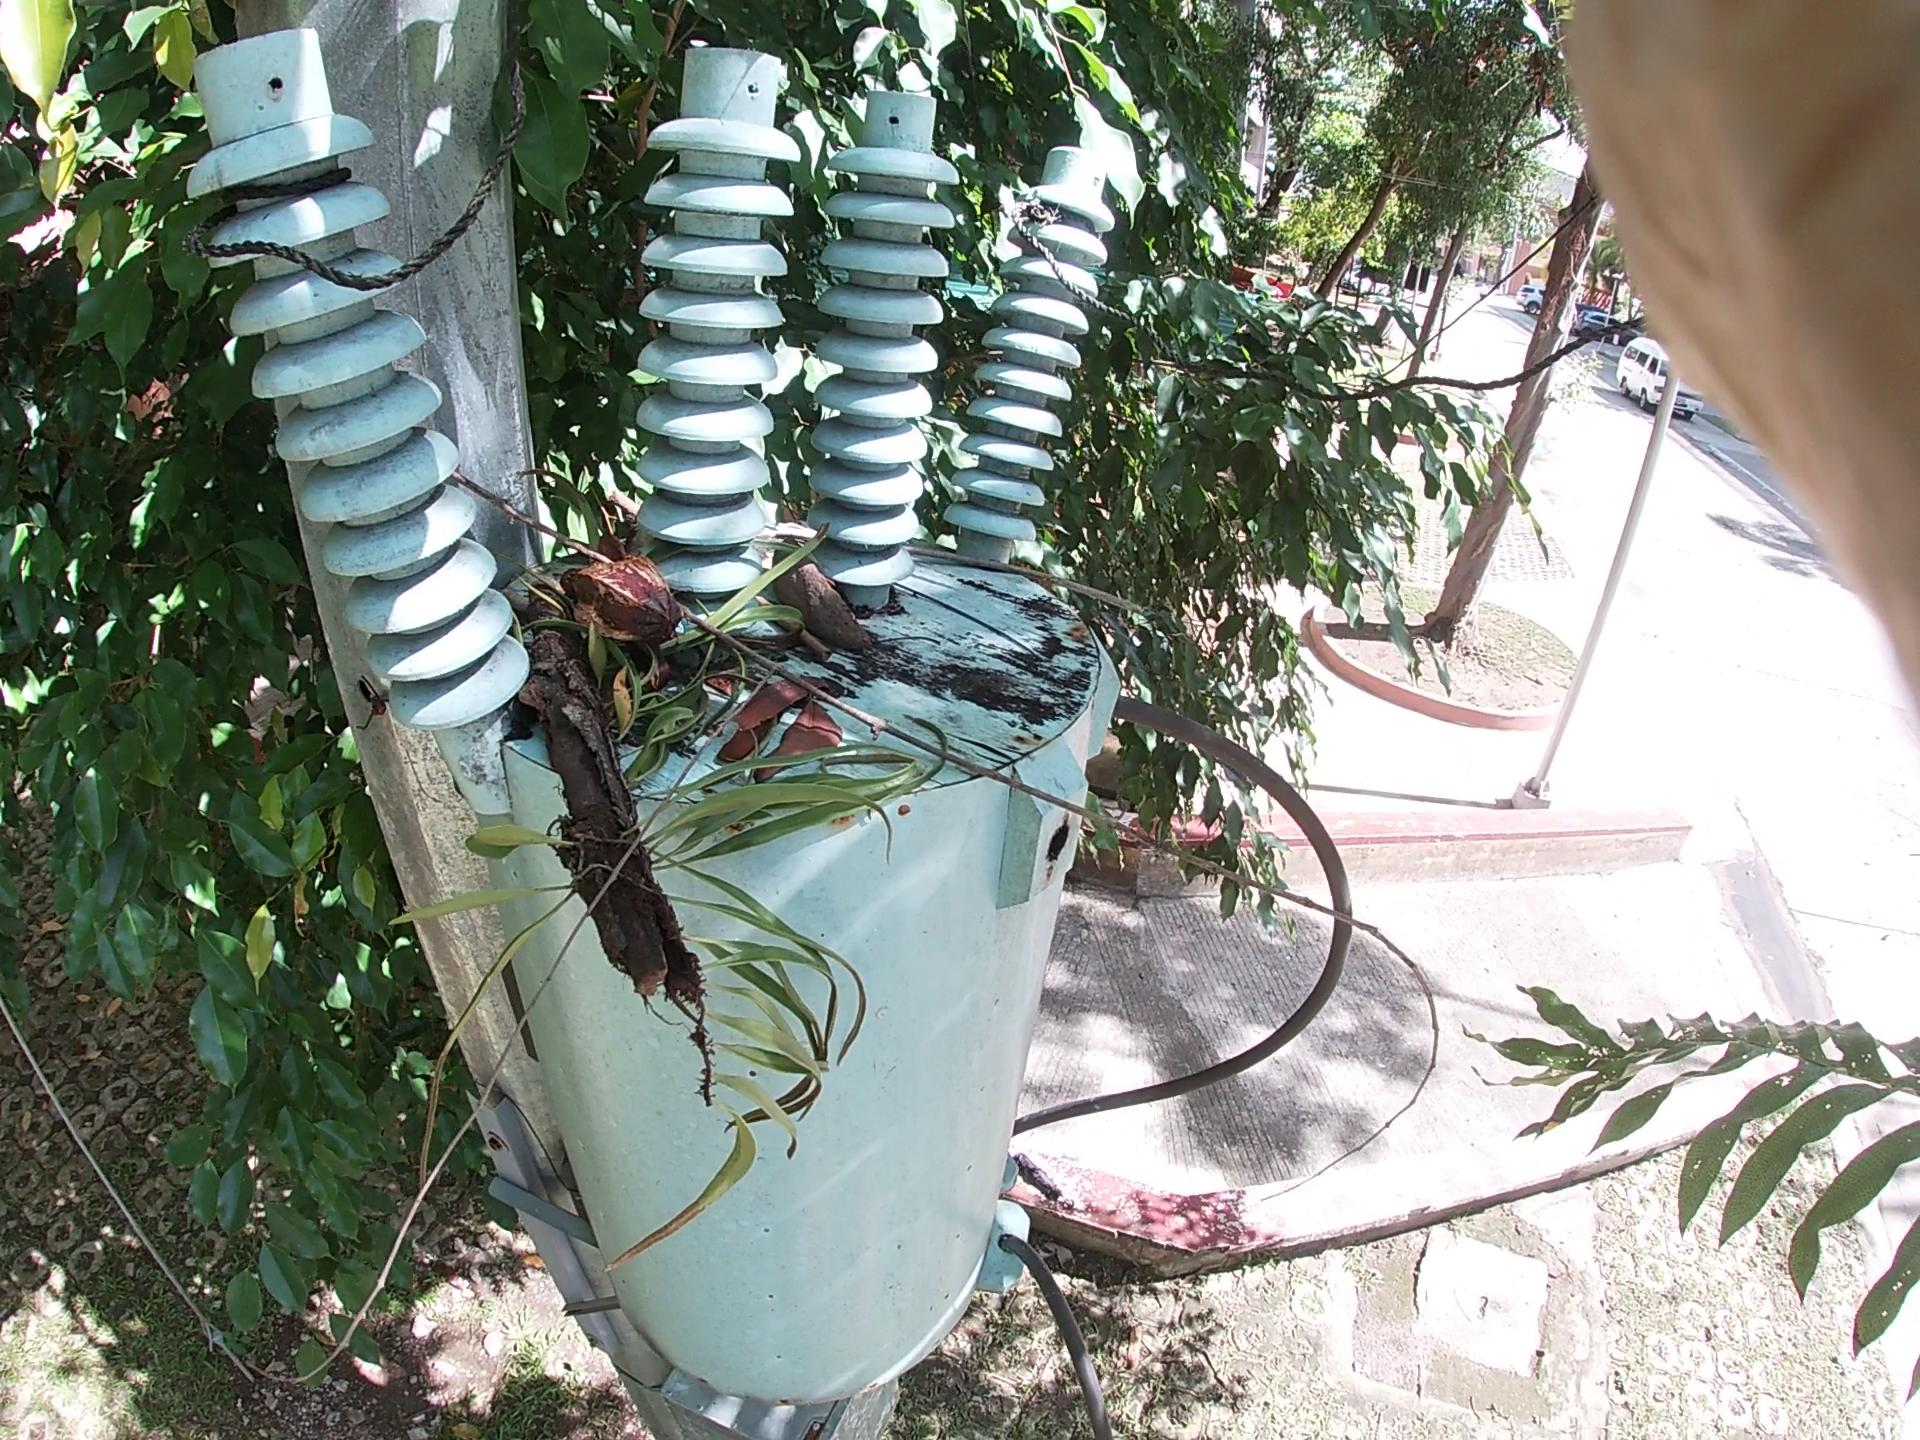branch with leaves: (479, 546, 821, 989)
leaf: (413, 6, 1336, 396)
mahogany fruit: (782, 529, 900, 681), (547, 551, 680, 640)
tree branch: (410, 452, 1504, 1085), (868, 523, 1355, 691), (773, 602, 857, 675)
